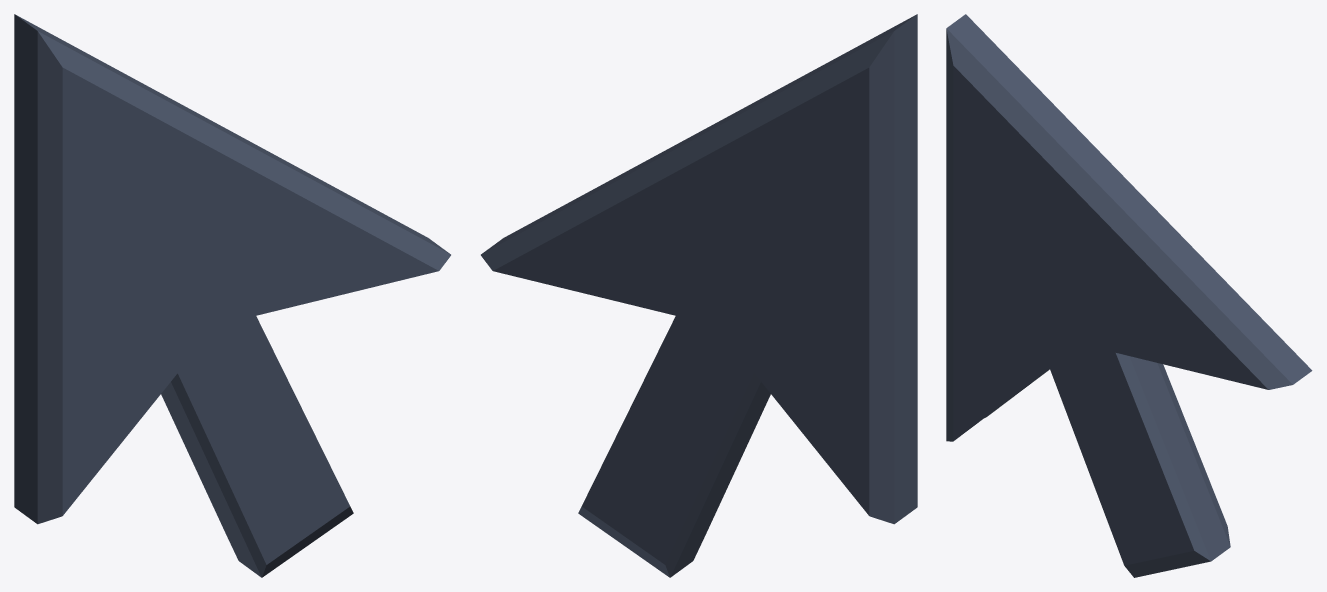
The model's file is cursor-graphite.glb.
3 views of the same model, side by side, from view 1: azimuth 30°, elevation 25°; view 2: azimuth 150°, elevation 25°; view 3: azimuth 330°, elevation 25° (orthographic). The views are drawn at different scales.
Parts seen in each view (by area): view 1: Cursor tip origin; view 2: Cursor tip origin; view 3: Cursor tip origin.
Part boxes in pixels (box(x1,y1,x2,y2)): Cursor tip origin: box(14, 14, 450, 577); Cursor tip origin: box(481, 14, 917, 577); Cursor tip origin: box(946, 14, 1312, 577).
Bounding box in the file's own units: 0.72 × 1 × 0.12.
